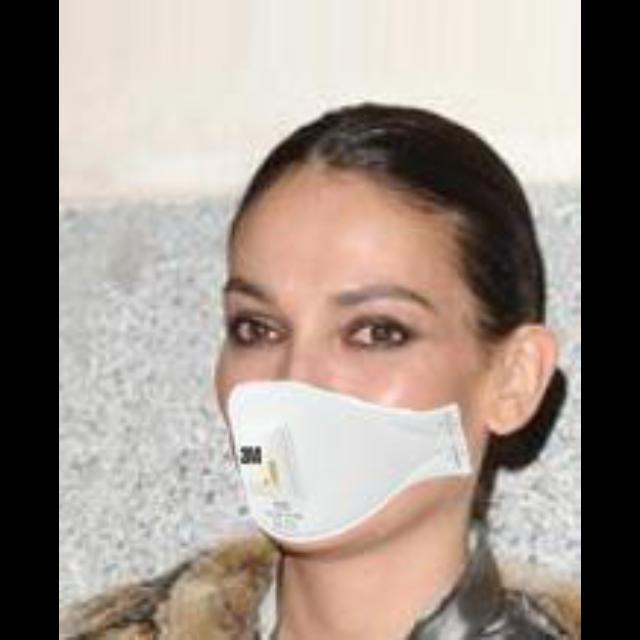suspicion: (195, 105, 570, 592)
